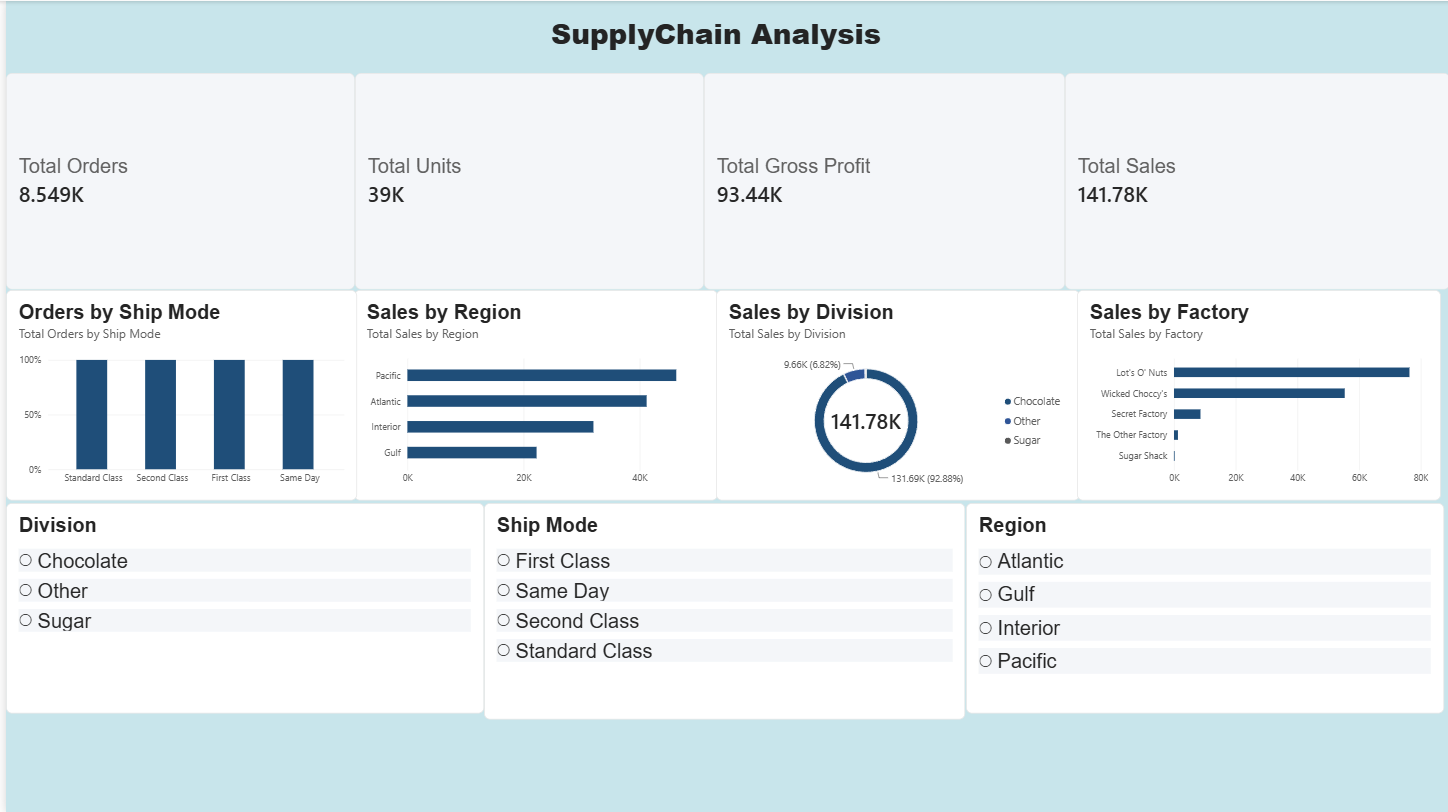

What the dashboard file says about the page in this screenshot:
{"tool":"powerbi","page":{"name":"Supply Chain Analysis","canvas":[1920,1080],"ordinal":1},"visuals":[{"type":"cardVisual","fields":{"Data":["Count(SALES.Order ID)"]},"box":[0,96,464,288],"z":0},{"type":"cardVisual","fields":{"Data":["SALES.Total Units"]},"box":[464,96,464,288],"z":1000},{"type":"cardVisual","fields":{"Data":["SALES.Total Sales"]},"box":[1408,96,512,288],"z":2000},{"type":"cardVisual","fields":{"Data":["SALES.Total Gross Profit"]},"box":[928,96,480,288],"z":3000},{"type":"barChart","title":"Sales by Region","fields":{"Category":["SALES.Region"],"Y":["SALES.Total Sales"]},"box":[463.4,384,484.2,280.4],"z":4000},{"type":"donutChart","title":"Sales by Division","fields":{"Category":["SALES.Division"],"Y":["SALES.Total Sales"]},"box":[943.7,384,484.2,280.4],"z":5000},{"type":"hundredPercentStackedColumnChart","title":"Orders by Ship Mode","fields":{"Category":["SALES.Ship Mode"],"Y":["SALES.Total Orders"]},"box":[0,384,467.4,280.4],"z":6000},{"type":"barChart","title":"Sales by Factory","fields":{"Category":["PRODUCT.Factory"],"Y":["SALES.Total Sales"]},"box":[1424,384,484.2,280.4],"z":7000},{"type":"listSlicer","fields":{"Values":["SALES.Region"]},"box":[1276.4,668.1,635.9,280.4],"z":8000},{"type":"listSlicer","fields":{"Values":["SALES.Ship Mode"]},"box":[635.9,668.1,640,288],"z":9000},{"type":"listSlicer","fields":{"Values":["PRODUCT.Division"]},"box":[0,668.1,635.9,280.4],"z":10000},{"type":"textbox","box":[464,16,960,80],"z":11000}]}

Visuals, with their boxes in screenshot pixels (x1, y1, x2, y2), scaled from the page's 1920x1080 canvas onto the 1448x812 screenshot:
cardVisual - Count(SALES.Order ID): l=0, t=72, r=350, b=289
cardVisual - SALES.Total Units: l=350, t=72, r=700, b=289
cardVisual - SALES.Total Sales: l=1062, t=72, r=1447, b=289
cardVisual - SALES.Total Gross Profit: l=700, t=72, r=1062, b=289
"Sales by Region" barChart: l=349, t=289, r=715, b=500
"Sales by Division" donutChart: l=712, t=289, r=1077, b=500
"Orders by Ship Mode" hundredPercentStackedColumnChart: l=0, t=289, r=352, b=500
"Sales by Factory" barChart: l=1074, t=289, r=1439, b=500
listSlicer - SALES.Region: l=963, t=502, r=1442, b=713
listSlicer - SALES.Ship Mode: l=480, t=502, r=962, b=719
listSlicer - PRODUCT.Division: l=0, t=502, r=480, b=713
textbox: l=350, t=12, r=1074, b=72
